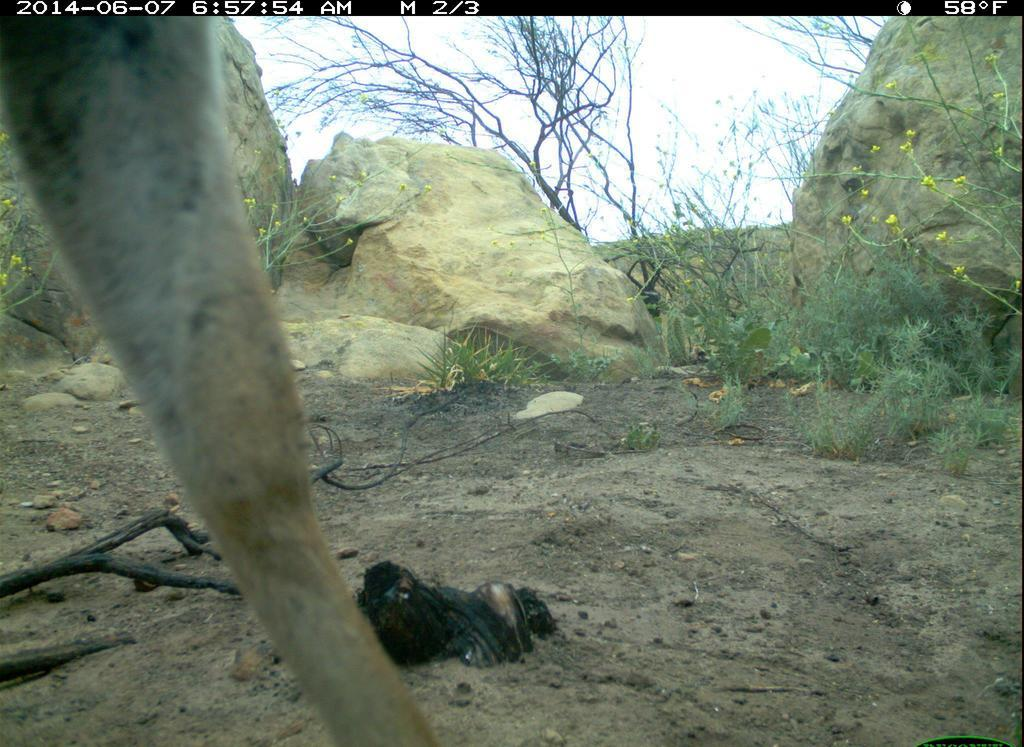deer: (3, 4, 446, 745)
